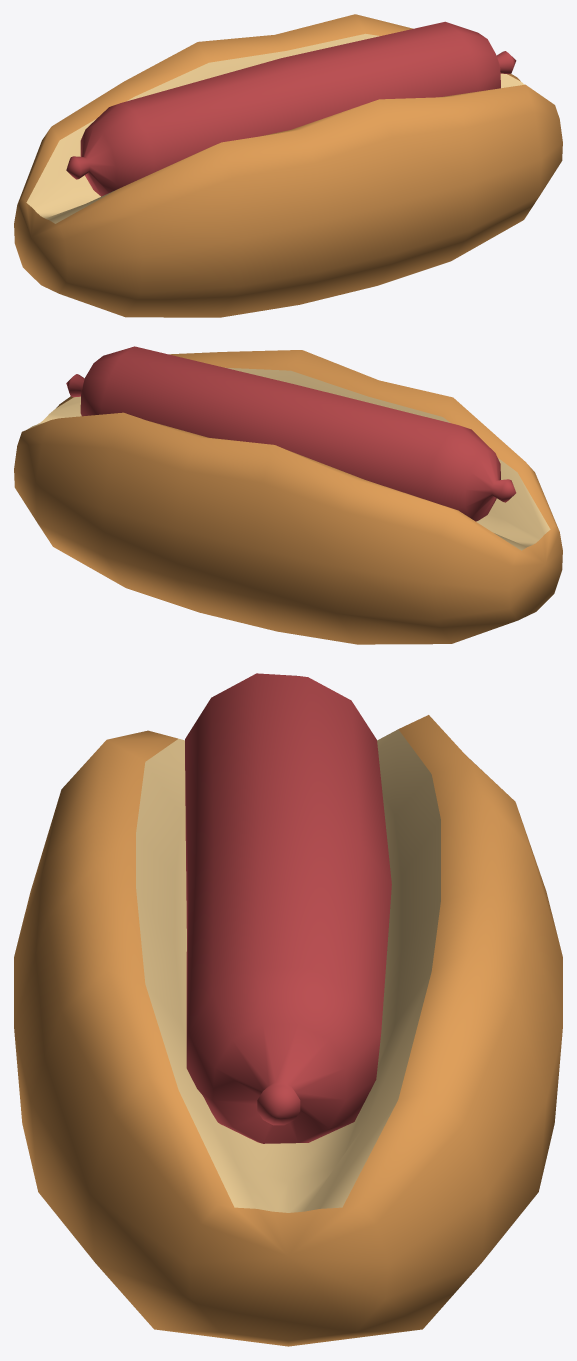
The model's file is choripan.glb.
3 renders of one model, top to bottom at view 1: azimuth 30°, elevation 25°; view 2: azimuth 150°, elevation 25°; view 3: azimuth 270°, elevation 25°, orthographic. The views are drawn at different scales.
Parts seen in each view (by area): view 1: pan_frances, pieza_chorizo; view 2: pan_frances, pieza_chorizo; view 3: pan_frances, pieza_chorizo.
Part boxes in pixels (x1,y1,x2,y2): pan_frances: (14, 14, 562, 317); pieza_chorizo: (66, 21, 516, 196); pan_frances: (14, 350, 562, 644); pieza_chorizo: (66, 346, 516, 521); pan_frances: (14, 715, 562, 1346); pieza_chorizo: (185, 673, 391, 1143).
Bounding box in the file's own units: 0.16 × 0.0619 × 0.0796.
